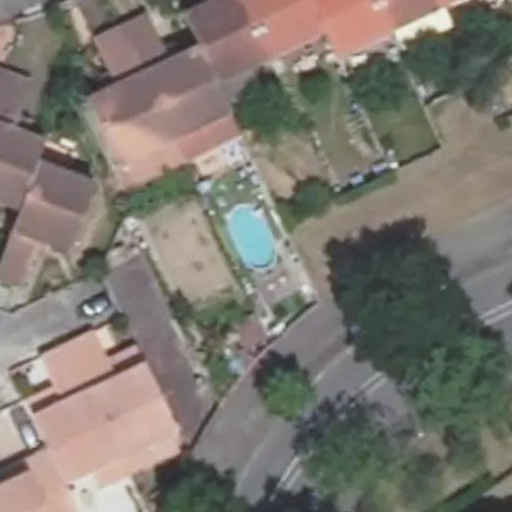pool: (226, 217, 286, 266)
